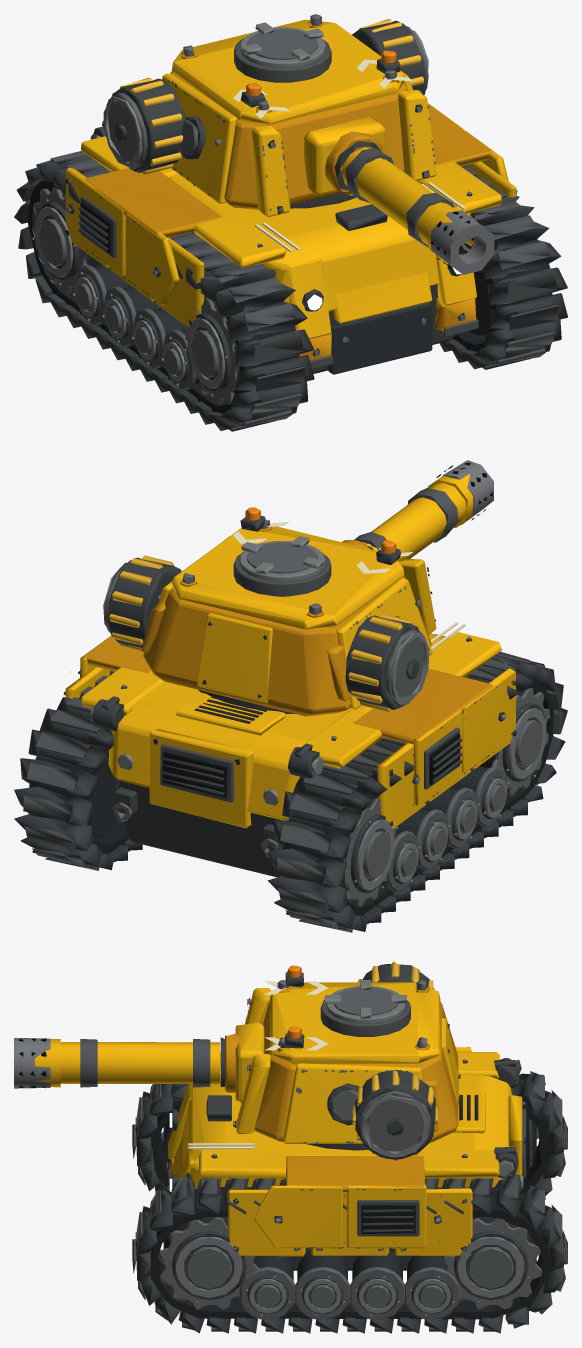
File: tank.glb
3 views of the same model, one above another, from view 1: azimuth 30°, elevation 25°; view 2: azimuth 150°, elevation 25°; view 3: azimuth 270°, elevation 25° (orthographic). The views are drawn at different scales.
Visible parts, largest first — view 1: Hull, Turret, TrackLeft, TrackRight, Barrel, Hatch, WheelLeft1, WheelLeft6, WheelLeft4, WheelLeft5, WheelLeft3, WheelLeft2 (+1 smaller); view 2: Hull, Turret, TrackLeft, TrackRight, Barrel, Hatch, WheelLeft6, WheelLeft1, WheelLeft3, WheelLeft2, WheelLeft4, WheelRight6 (+1 smaller); view 3: Hull, Turret, TrackRight, Barrel, WheelRight1, WheelRight6, TrackLeft, Hatch, WheelRight3, WheelRight4, WheelRight2, WheelRight5.
Part boxes in pixels (left/top/right/bottom): Hull: left=28, top=103, right=552, bottom=413; Turret: left=103, top=14, right=437, bottom=217; TrackLeft: left=14, top=151, right=314, bottom=431; TrackRight: left=439, top=164, right=567, bottom=369; Barrel: left=341, top=147, right=494, bottom=274; Hatch: left=234, top=22, right=331, bottom=82; WheelLeft1: left=184, top=298, right=239, bottom=405; WheelLeft6: left=31, top=187, right=101, bottom=294; WheelLeft4: left=102, top=286, right=160, bottom=347; WheelLeft5: left=72, top=264, right=131, bottom=325; WheelLeft3: left=131, top=308, right=187, bottom=369; WheelLeft2: left=161, top=329, right=199, bottom=390; Hull: left=29, top=622, right=554, bottom=915; Turret: left=103, top=507, right=436, bottom=716; TrackLeft: left=267, top=652, right=567, bottom=932; TrackRight: left=14, top=670, right=142, bottom=870; Barrel: left=354, top=460, right=493, bottom=561; Hatch: left=233, top=536, right=331, bottom=596; WheelLeft6: left=343, top=798, right=397, bottom=907; WheelLeft1: left=480, top=688, right=549, bottom=795; WheelLeft3: left=420, top=787, right=479, bottom=848; WheelLeft2: left=450, top=766, right=509, bottom=826; WheelLeft4: left=396, top=809, right=450, bottom=870; WheelRight6: left=89, top=749, right=120, bottom=837; Hull: left=151, top=1047, right=549, bottom=1319; Turret: left=220, top=961, right=460, bottom=1160; TrackRight: left=132, top=1172, right=567, bottom=1333; Barrel: left=14, top=1038, right=219, bottom=1088; WheelRight1: left=158, top=1217, right=258, bottom=1310; WheelRight6: left=440, top=1217, right=541, bottom=1310; TrackLeft: left=132, top=1059, right=567, bottom=1195; Hatch: left=320, top=980, right=410, bottom=1036; WheelRight3: left=295, top=1251, right=350, bottom=1319; WheelRight4: left=350, top=1251, right=404, bottom=1319; WheelRight2: left=239, top=1256, right=295, bottom=1319; WheelRight5: left=405, top=1255, right=460, bottom=1319.
Bounding box in the file's own units: 1 × 0.7705 × 1.45.
